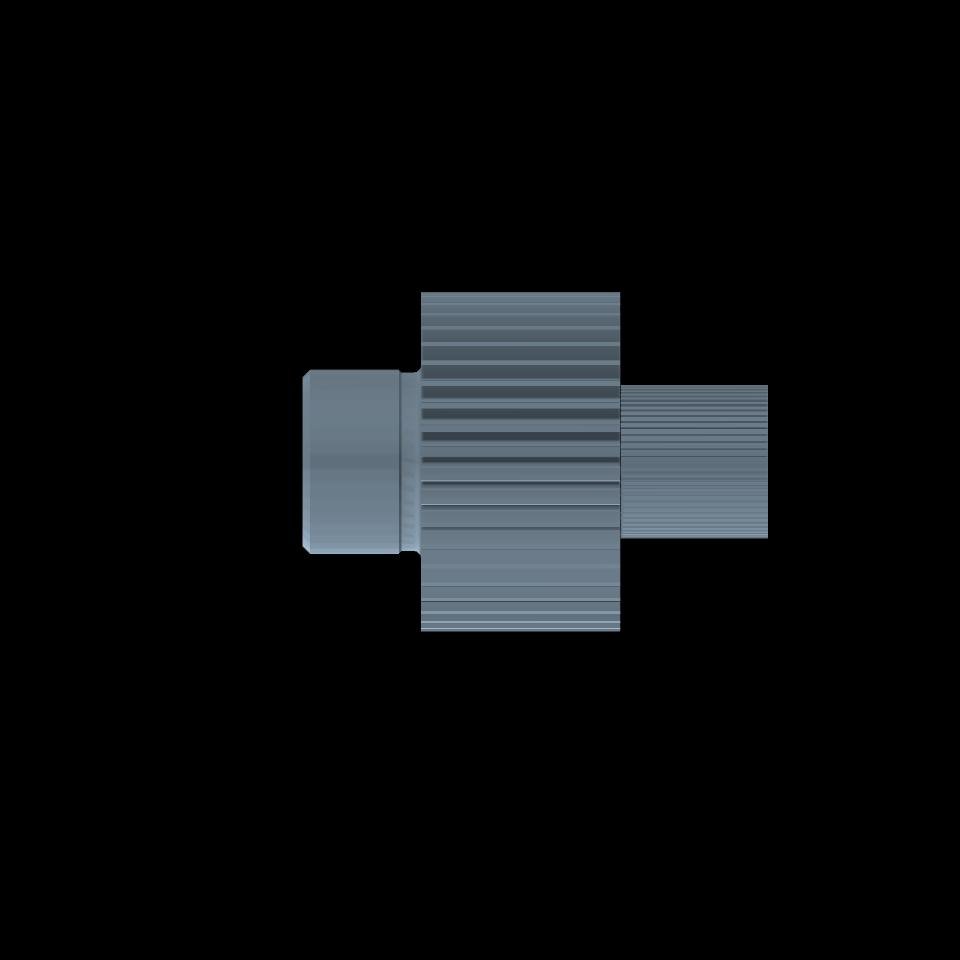Straight: (422, 291, 619, 629)
